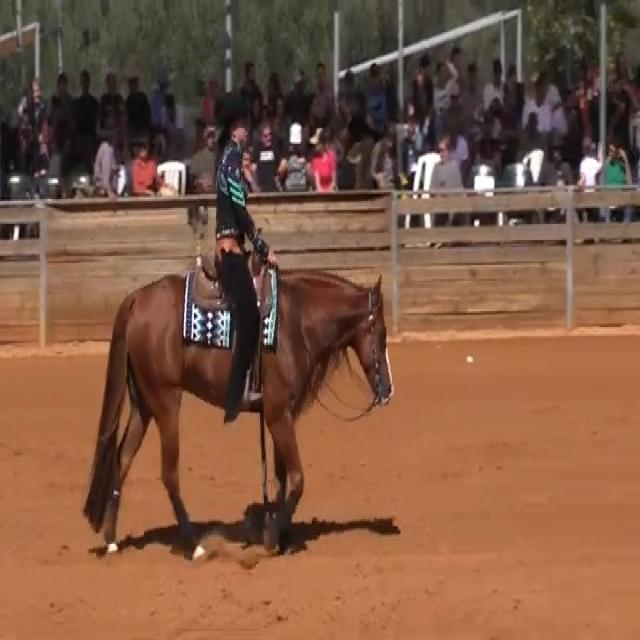horse: (81, 252, 395, 558)
